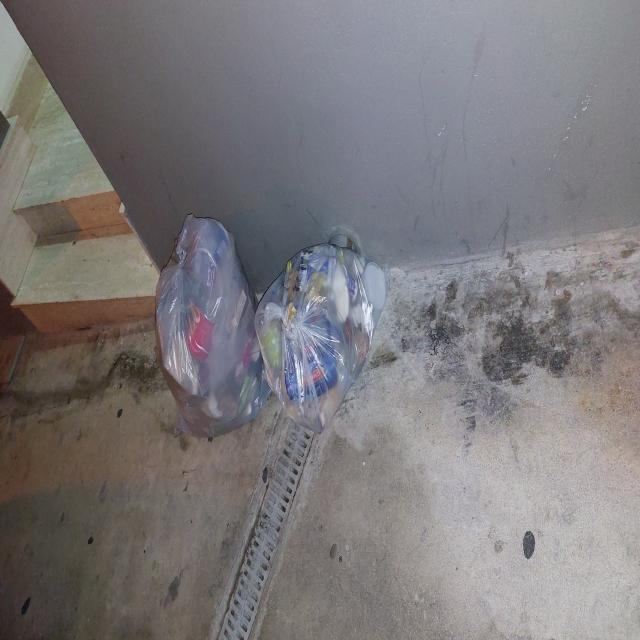Recycled Waste -Grey or Green Bag-: (151, 209, 272, 453), (255, 237, 396, 443)
